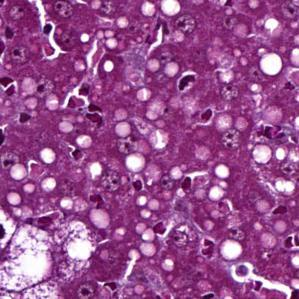ballooning: (5, 222, 56, 291)
